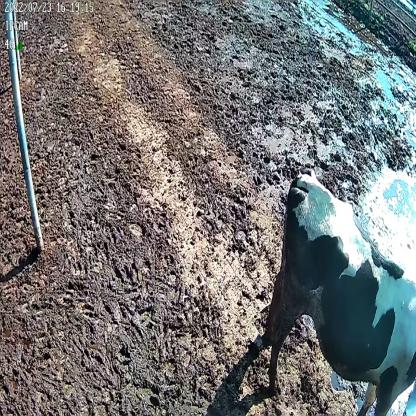cow: (264, 171, 416, 416)
